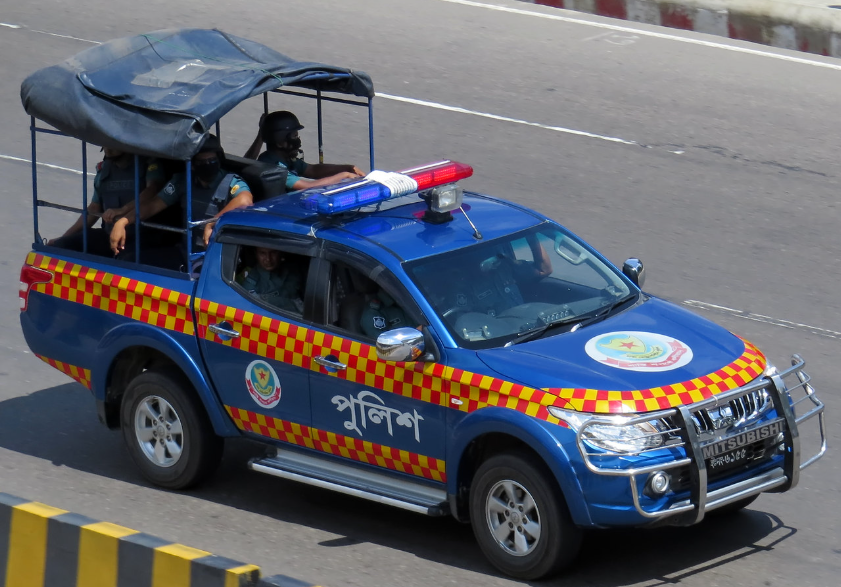Police cars: (20, 26, 830, 579)
